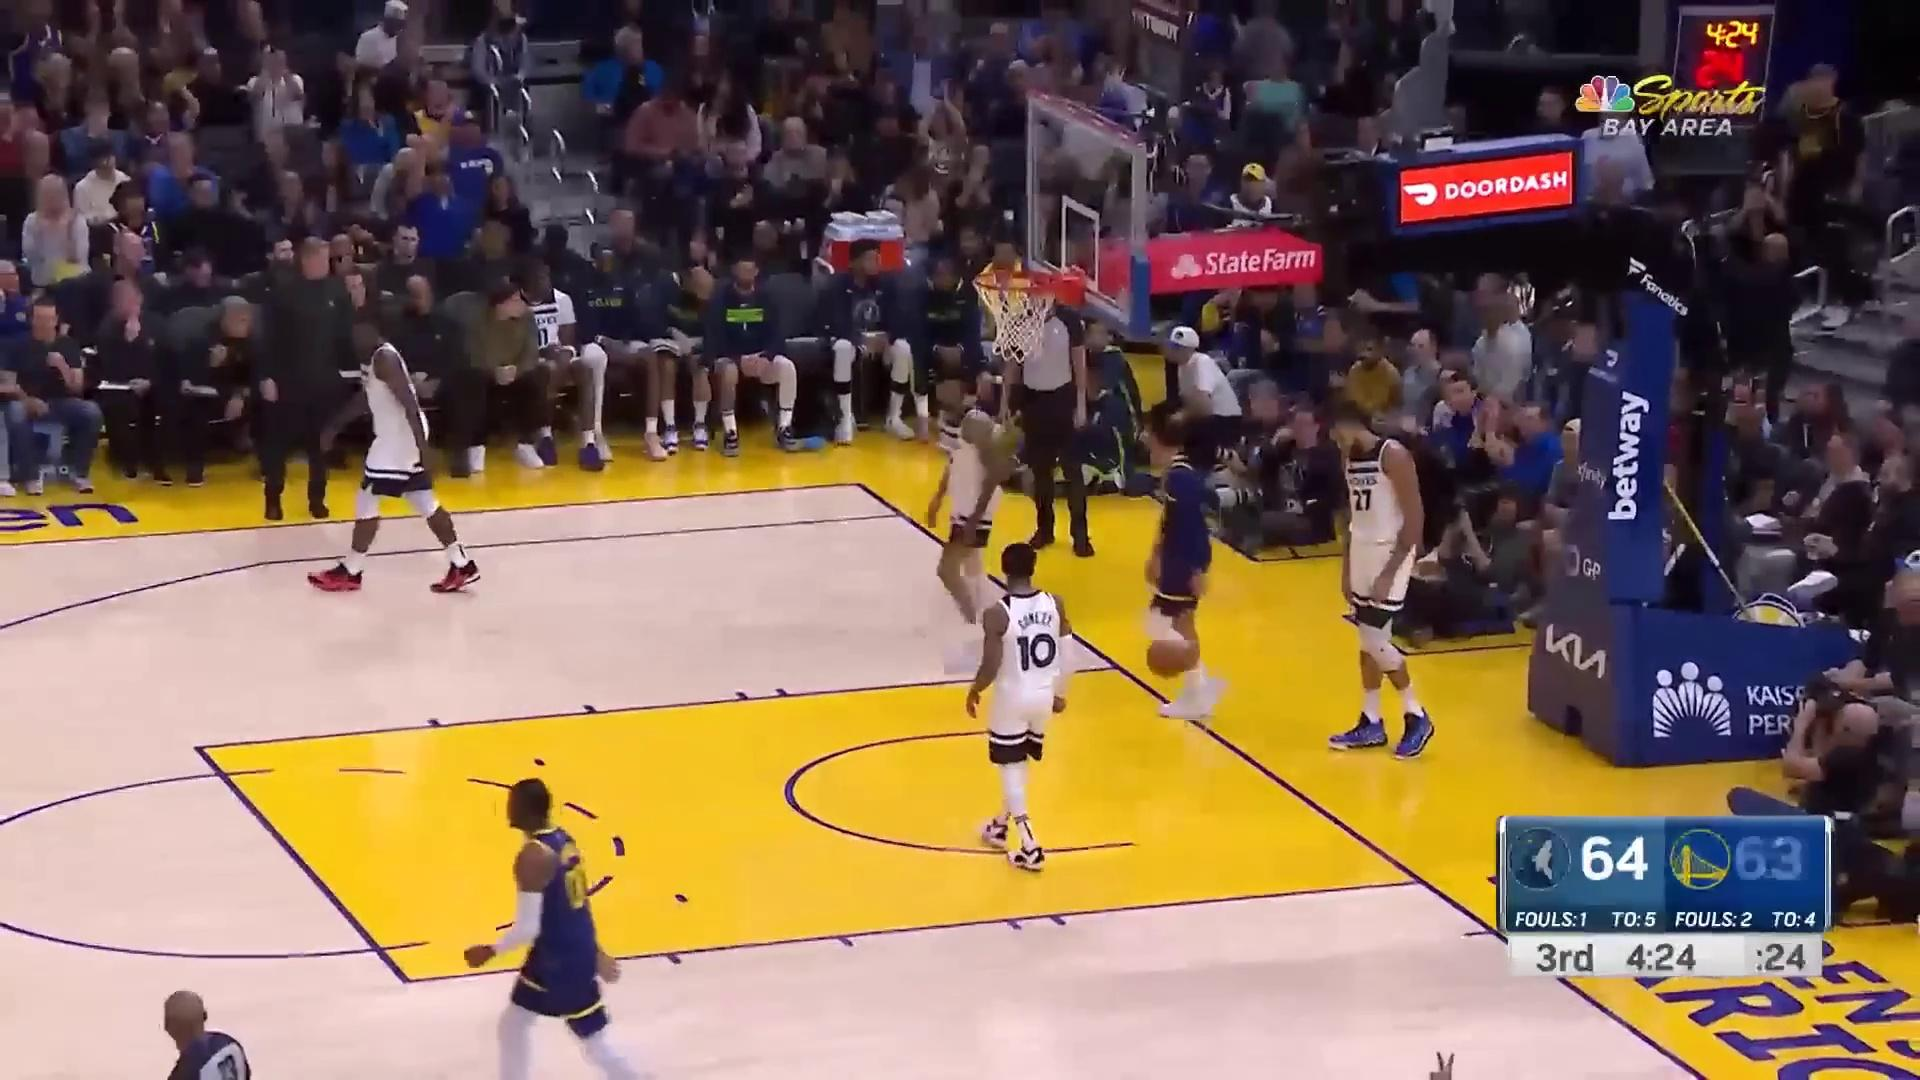Ball: (1144, 629, 1194, 681)
Player: (298, 314, 493, 598), (456, 774, 636, 1080), (1318, 401, 1441, 764), (971, 544, 1068, 876), (1138, 418, 1218, 738), (914, 363, 994, 681)
Rim: (959, 86, 1161, 366)
